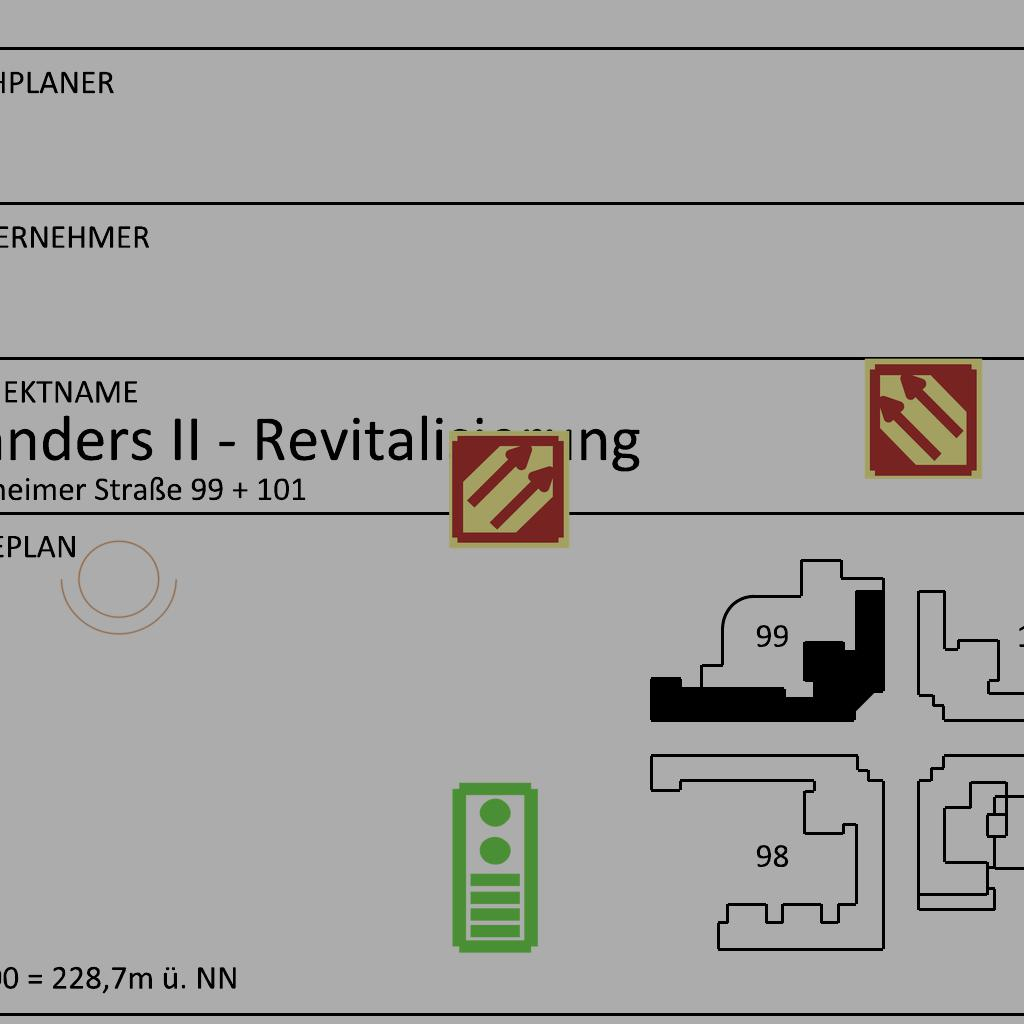ASR_Ansaugrauchmelder: (861, 356, 986, 481), (447, 427, 572, 552)
Gegensprechanlage_mit_Video: (446, 779, 541, 955)
Scheinwerfer_fuer_Alarmbeleuchtung: (56, 528, 188, 640)
